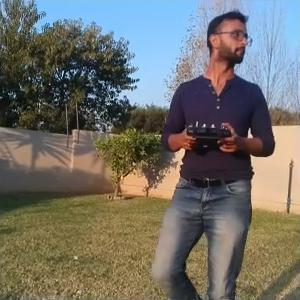follow: (144, 7, 276, 299)
